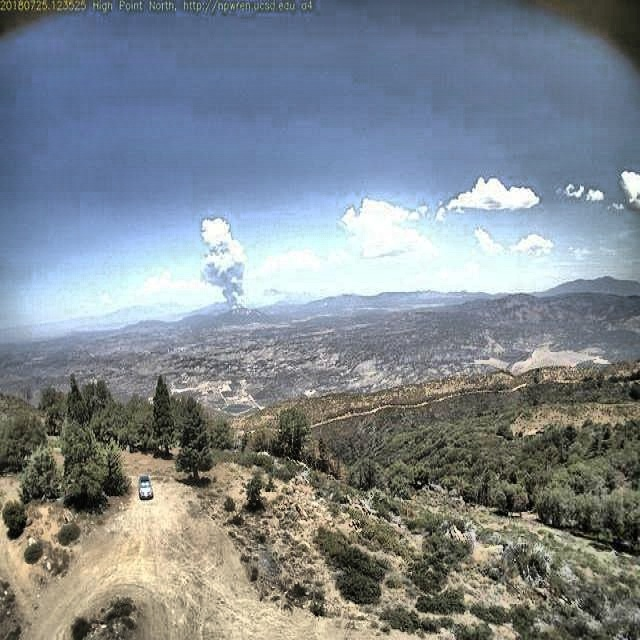smoke: (196, 213, 251, 319)
